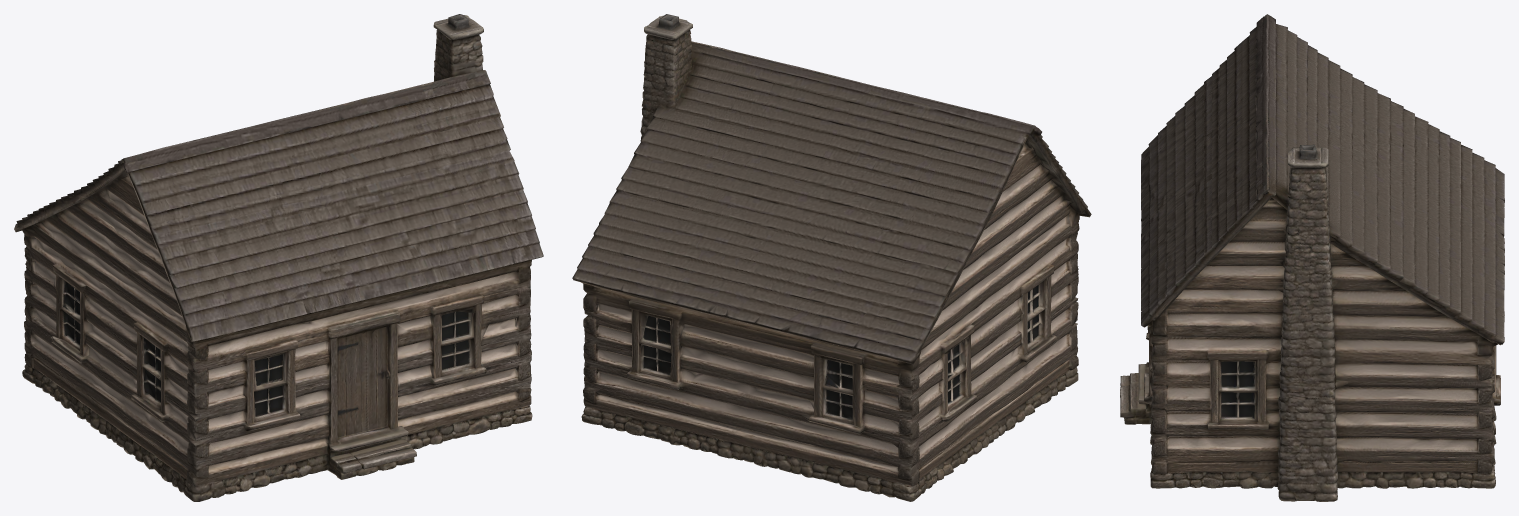
File: tripo_convert_94aa635d-48ac-4f67-a61a-429d27cf9173.fbx
3 renders of one model, left to right at view 1: azimuth 30°, elevation 25°; view 2: azimuth 150°, elevation 25°; view 3: azimuth 270°, elevation 25°, orthographic. The views are drawn at different scales.
Parts seen in each view (by area): view 1: tripo_node_94aa635d; view 2: tripo_node_94aa635d; view 3: tripo_node_94aa635d.
Part boxes in pixels (box(x1,y1,x2,y2)): tripo_node_94aa635d: box(14, 14, 543, 501); tripo_node_94aa635d: box(572, 14, 1091, 501); tripo_node_94aa635d: box(1120, 14, 1504, 501).
Size of the model in its own units: 0.98 by 0.8467 by 0.8617.
Materials: 1 (1 with a texture image).
